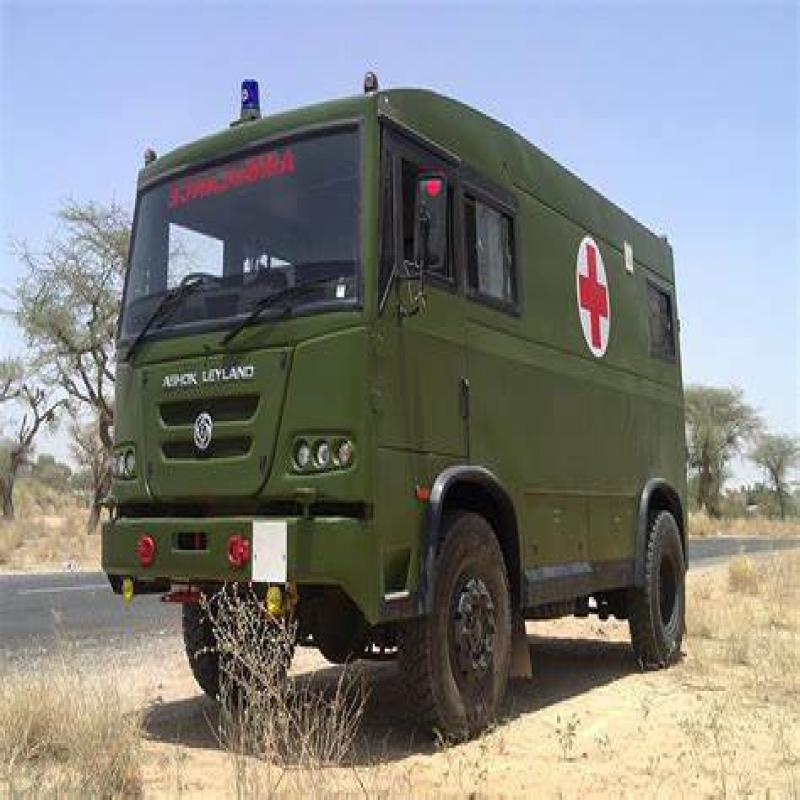AmbulanceSiren: (224, 61, 274, 120)
